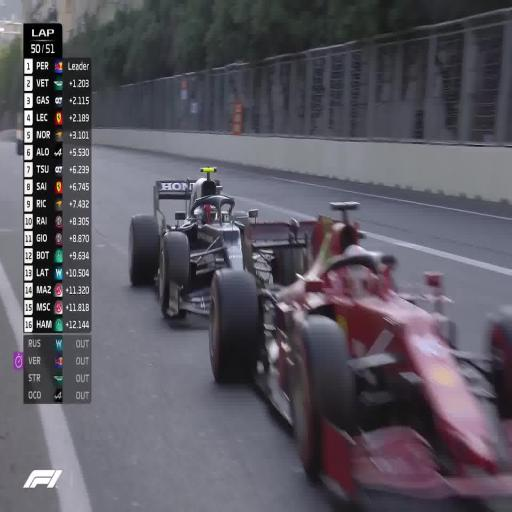f1_car: (209, 203, 512, 510), (129, 167, 312, 317)
